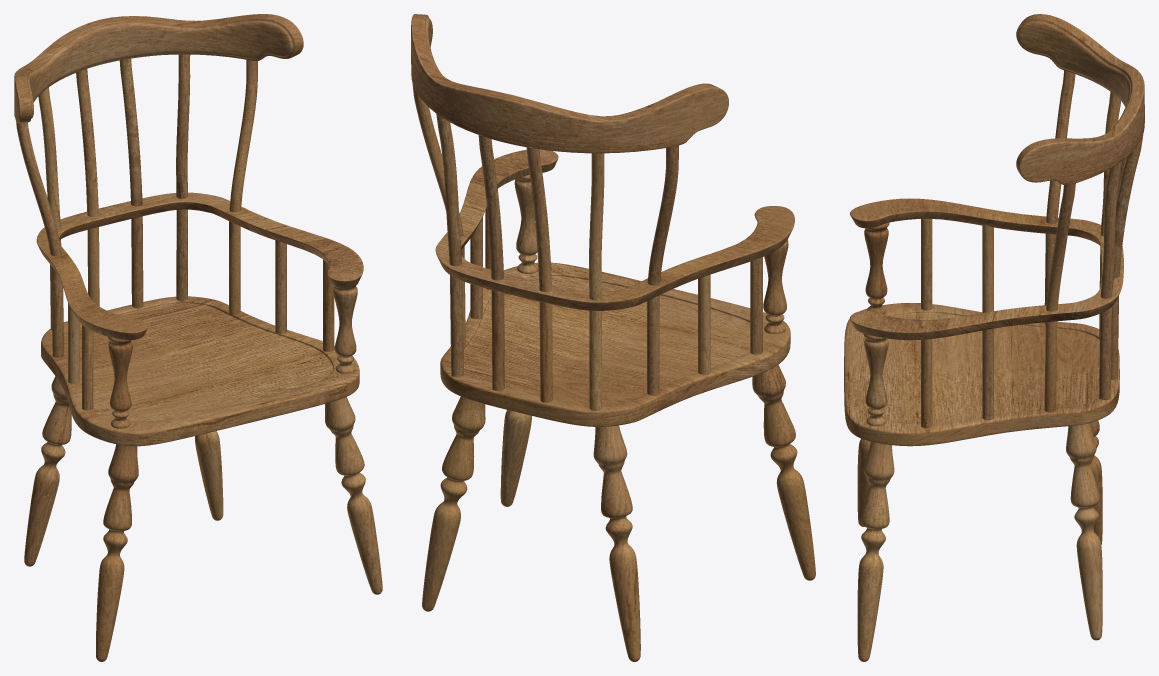
Rendered from forest.optimized.glb.
3 views of the same model, side by side, from view 1: azimuth 30°, elevation 25°; view 2: azimuth 150°, elevation 25°; view 3: azimuth 270°, elevation 25° (orthographic). The views are drawn at different scales.
Visible parts, largest first — view 1: A23D; view 2: A23D; view 3: A23D.
Boxes of the visible parts, bbox=[...] form: A23D: bbox=[14, 14, 382, 661]; A23D: bbox=[411, 14, 815, 661]; A23D: bbox=[844, 14, 1144, 661].
Bounding box in the file's own units: 0.4313 × 0.7404 × 0.3922.
Materials: 1 (1 with a texture image).
